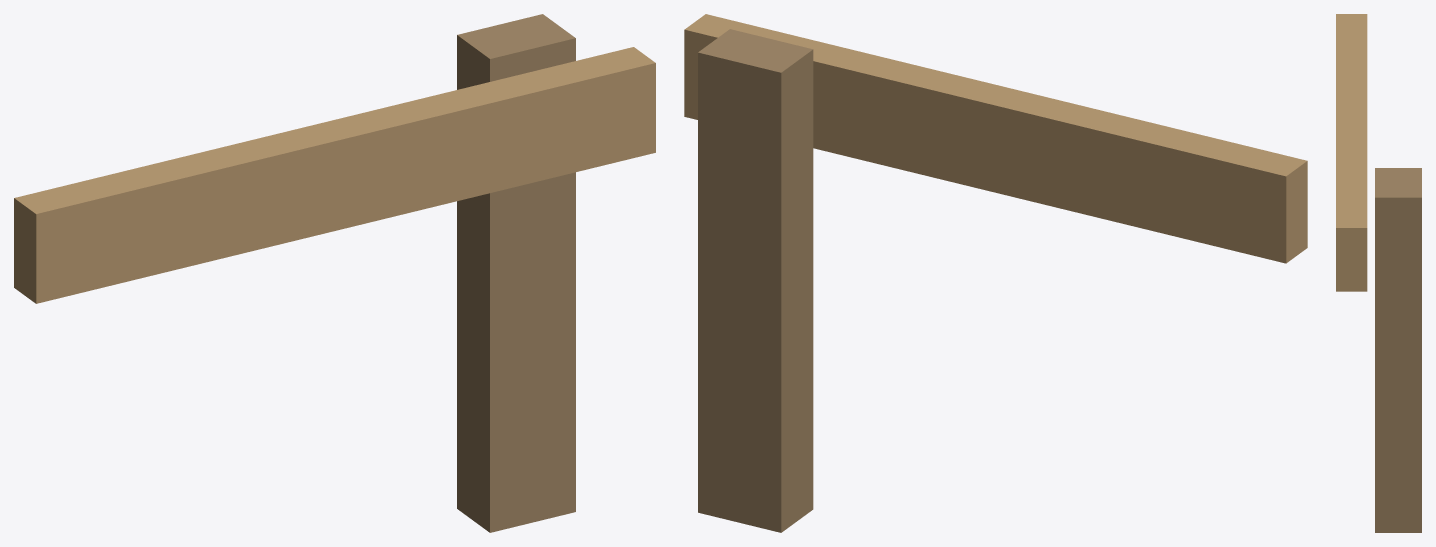
File: decor_construction_pallet.glb
3 renders of one model, left to right at view 1: azimuth 30°, elevation 25°; view 2: azimuth 150°, elevation 25°; view 3: azimuth 270°, elevation 25°, orthographic. The views are drawn at different scales.
Parts seen in each view (by area): view 1: top_plank, support; view 2: top_plank, support; view 3: support, top_plank.
Boxes of the visible parts, box(x1,y1,x2,y2) form: top_plank: box(14, 47, 655, 303); support: box(457, 14, 575, 532); top_plank: box(684, 14, 1307, 263); support: box(698, 29, 813, 532); support: box(1375, 168, 1421, 532); top_plank: box(1336, 14, 1367, 291).
Size of the model in its own units: 1.3 by 0.95 by 0.22.
